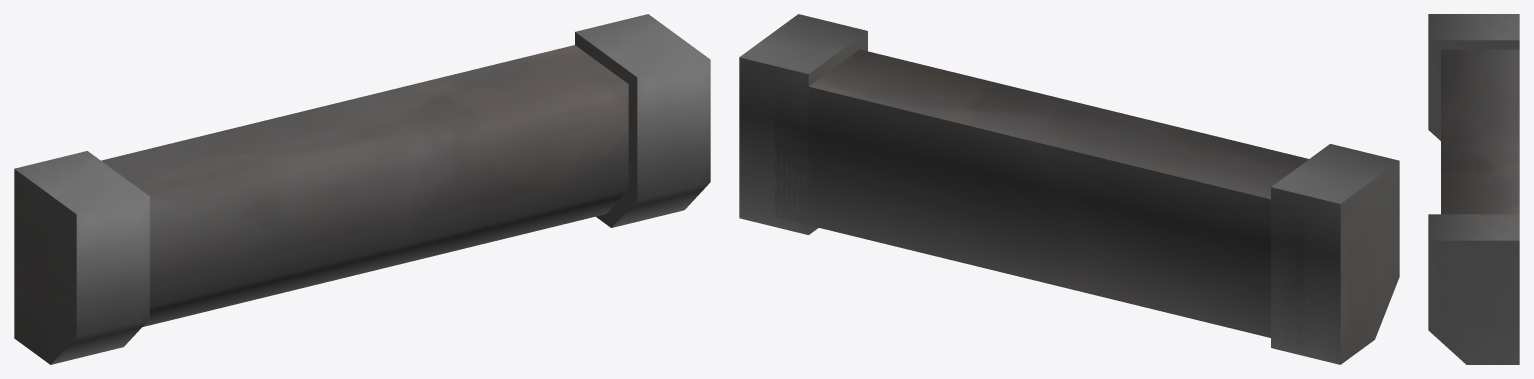
The model's file is Trim_02_b.fbx.
3 views of the same model, side by side, from view 1: azimuth 30°, elevation 25°; view 2: azimuth 150°, elevation 25°; view 3: azimuth 270°, elevation 25° (orthographic). The views are drawn at different scales.
Parts seen in each view (by area): view 1: Trim_02_b; view 2: Trim_02_b; view 3: Trim_02_b.
Part boxes in pixels (left/top/right/bottom): Trim_02_b: left=14, top=14, right=710, bottom=364; Trim_02_b: left=739, top=14, right=1399, bottom=364; Trim_02_b: left=1428, top=14, right=1519, bottom=364.
Bounding box in the file's own units: 1.13 × 0.2902 × 0.1936.
